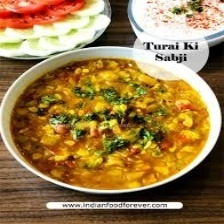dal: (3, 57, 215, 191)
